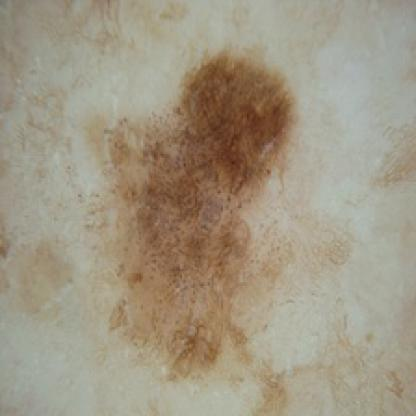malignant: (158, 46, 295, 162), (141, 182, 219, 288)
